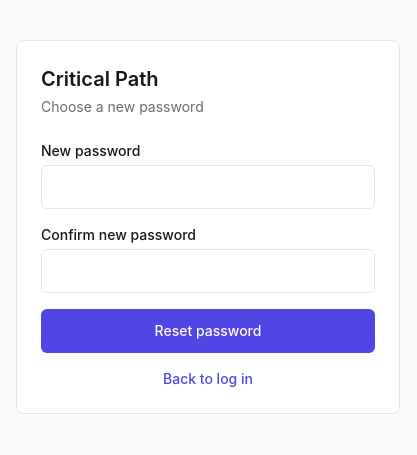
Test: ResetPassword › reports a too-short password and a mismatch together
Type "short" into the password field labelled "New password" at [208, 187], box [41,165,375,209]
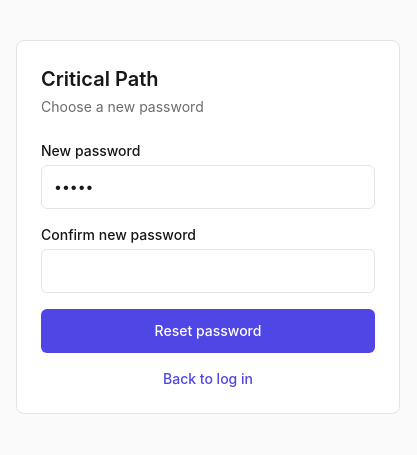
Type "different" into the password field labelled "Confirm new password" at [208, 271], box [41,249,375,293]
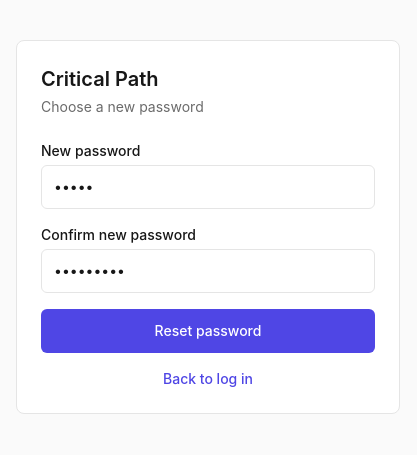
Click the button "Reset password" at [208, 331], box [41,309,375,353]
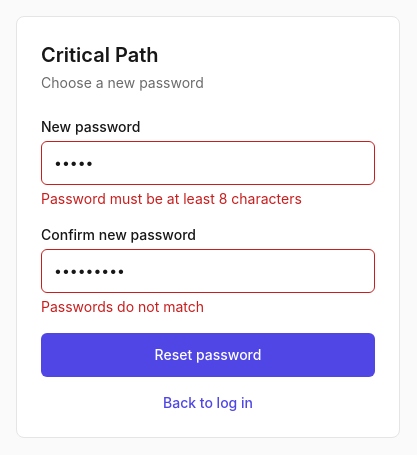
Check: the text "Password must be at least 8 characters" is shown, box [41,190,302,207]
Check: the text "Passwords do not match" is shown, box [41,298,204,315]
